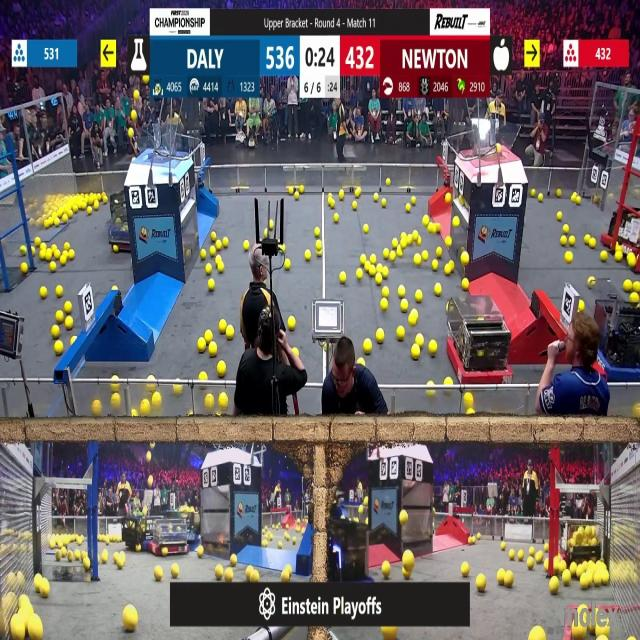ball_airborne: (383, 626, 396, 640), (491, 143, 502, 157), (132, 110, 138, 121), (146, 452, 152, 462), (129, 129, 135, 138), (134, 92, 140, 101), (148, 477, 153, 487), (143, 75, 149, 83)
ball_ground: (125, 608, 138, 633), (530, 628, 544, 640), (478, 576, 487, 594), (402, 553, 412, 569), (247, 568, 258, 582), (550, 580, 560, 595), (218, 393, 228, 408), (110, 393, 120, 408), (217, 360, 226, 376), (503, 570, 512, 586), (93, 402, 102, 418), (463, 392, 472, 407), (579, 575, 588, 590), (41, 583, 49, 599), (208, 343, 217, 357), (206, 394, 215, 408), (56, 341, 64, 356), (382, 562, 390, 577), (141, 402, 149, 417), (215, 565, 223, 579), (377, 328, 385, 342), (461, 562, 469, 576), (154, 566, 162, 580), (410, 312, 418, 326), (225, 325, 233, 339), (396, 326, 404, 340), (363, 340, 371, 354), (562, 571, 570, 585), (398, 512, 406, 526), (172, 564, 180, 577), (412, 346, 420, 359), (628, 254, 636, 267), (497, 570, 504, 584), (119, 555, 126, 569), (595, 572, 602, 586), (602, 571, 609, 585), (198, 340, 206, 352), (282, 569, 290, 581), (630, 291, 638, 303), (174, 384, 182, 396), (367, 266, 375, 278), (288, 317, 295, 330), (461, 252, 468, 265), (219, 320, 226, 333), (51, 325, 58, 338), (634, 405, 640, 420), (400, 301, 408, 312), (416, 337, 424, 348), (616, 251, 624, 262), (434, 283, 441, 295), (65, 303, 72, 315), (66, 317, 73, 329), (225, 568, 232, 580), (625, 280, 632, 292), (397, 286, 404, 298), (429, 342, 436, 354), (22, 264, 29, 276), (381, 300, 388, 312), (376, 274, 383, 286), (198, 548, 205, 560), (453, 216, 460, 228), (600, 251, 608, 261), (40, 287, 47, 298), (416, 290, 423, 301), (208, 280, 215, 291), (57, 312, 64, 323), (284, 261, 291, 272), (415, 254, 422, 265), (535, 553, 542, 564), (83, 558, 89, 570), (232, 555, 238, 567), (388, 251, 396, 260), (542, 560, 548, 572), (113, 553, 119, 565), (57, 286, 64, 296), (565, 252, 572, 262), (356, 270, 363, 280), (382, 287, 389, 297), (446, 238, 453, 248), (69, 250, 76, 260), (518, 552, 525, 562), (445, 266, 452, 276), (341, 273, 347, 284), (402, 567, 408, 578), (306, 250, 312, 261), (528, 558, 534, 569), (585, 235, 591, 246), (102, 553, 108, 564), (382, 268, 388, 279), (634, 281, 640, 292), (200, 373, 208, 381), (568, 237, 575, 246), (446, 378, 453, 387), (61, 256, 68, 265), (507, 551, 514, 560), (354, 188, 361, 197), (94, 202, 101, 211), (433, 223, 440, 232), (462, 280, 468, 290), (244, 241, 250, 251), (218, 264, 224, 274), (578, 302, 584, 312), (316, 240, 322, 250), (50, 264, 56, 274), (435, 248, 441, 258), (563, 224, 569, 234), (206, 266, 212, 276), (590, 239, 596, 249), (422, 215, 428, 225), (201, 250, 207, 260), (75, 551, 81, 561), (206, 330, 212, 340), (216, 240, 222, 250), (589, 277, 595, 287), (396, 248, 402, 258), (400, 239, 406, 249), (39, 250, 45, 260), (163, 548, 169, 558), (34, 238, 40, 248), (270, 220, 277, 228), (414, 232, 421, 240), (384, 248, 389, 259), (370, 254, 376, 263), (222, 239, 228, 248), (561, 237, 567, 246), (315, 229, 321, 238), (211, 233, 217, 242), (340, 190, 346, 199), (352, 202, 358, 211), (556, 188, 562, 197), (88, 206, 94, 215), (372, 194, 378, 203), (210, 247, 216, 256), (422, 251, 428, 260), (571, 192, 577, 201), (428, 223, 434, 232), (63, 214, 69, 223), (377, 266, 383, 275), (561, 561, 567, 570), (432, 262, 437, 272), (360, 254, 365, 264), (392, 239, 397, 249), (447, 192, 452, 202), (56, 250, 61, 260), (363, 496, 368, 506), (46, 250, 51, 260), (111, 376, 118, 383), (112, 245, 118, 253), (537, 192, 543, 200), (467, 410, 473, 418), (467, 536, 473, 544), (500, 542, 506, 550), (530, 188, 536, 196), (557, 212, 563, 220), (19, 246, 25, 254), (335, 214, 341, 222), (136, 544, 142, 552), (328, 200, 334, 208), (132, 411, 138, 419), (293, 191, 299, 199), (528, 549, 534, 557), (358, 358, 364, 366), (287, 187, 293, 195), (381, 199, 386, 208), (408, 237, 413, 246), (575, 197, 580, 206), (56, 217, 61, 226), (407, 205, 413, 212), (298, 186, 304, 193), (358, 505, 364, 512), (363, 224, 368, 232), (412, 198, 417, 206), (216, 255, 221, 263), (428, 390, 433, 398), (279, 540, 284, 548), (71, 337, 76, 345), (58, 552, 62, 562), (264, 539, 269, 547), (149, 374, 154, 382), (68, 210, 73, 218), (281, 244, 286, 252), (418, 238, 422, 247), (65, 243, 70, 250), (386, 178, 391, 185), (284, 532, 289, 539), (543, 542, 547, 550), (265, 231, 269, 239), (104, 197, 108, 205), (428, 381, 433, 387), (292, 536, 296, 543), (32, 248, 36, 255), (400, 233, 404, 240), (188, 412, 192, 418), (364, 520, 368, 526)
goal: (466, 122, 520, 160), (128, 129, 187, 159)
robot_blue: (601, 300, 640, 385), (122, 514, 154, 552)
robot_red: (448, 299, 513, 386), (148, 508, 200, 556), (559, 517, 601, 564), (618, 204, 640, 257)
